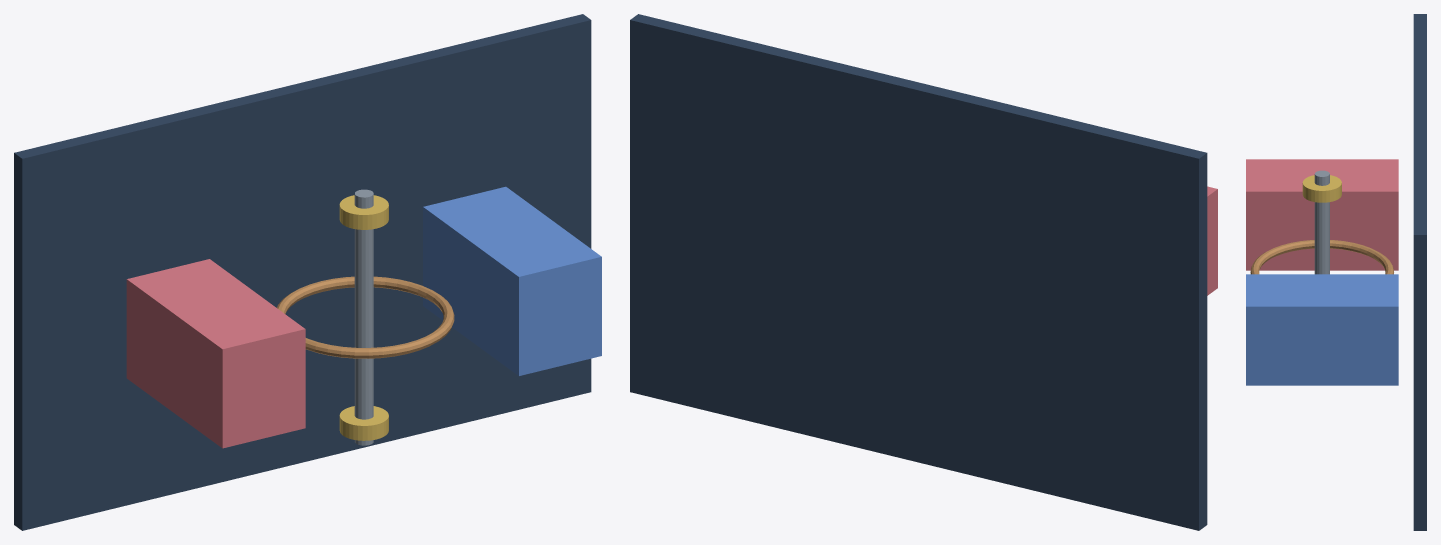
File: ac-generator.glb
The picture shows the model from 3 angles, left to right: view 1: azimuth 30°, elevation 25°; view 2: azimuth 150°, elevation 25°; view 3: azimuth 270°, elevation 25°; orthographic projection. The views are drawn at different scales.
Visible parts, largest first — view 1: bench, north_pole, south_pole, shaft, rotating_coil, slip_ring_left, slip_ring_right; view 2: bench, north_pole; view 3: south_pole, north_pole, bench, shaft, rotating_coil, slip_ring_right.
Part boxes in pixels (x1=…): bench: x1=14, y1=14, x2=591, y2=530; north_pole: x1=126, y1=259, x2=305, y2=448; south_pole: x1=423, y1=186, x2=601, y2=375; shaft: x1=354, y1=189, x2=373, y2=445; rotating_coil: x1=277, y1=276, x2=454, y2=358; slip_ring_left: x1=339, y1=406, x2=388, y2=440; slip_ring_right: x1=339, y1=195, x2=388, y2=229; bench: x1=630, y1=14, x2=1207, y2=530; north_pole: x1=1207, y1=186, x2=1217, y2=295; south_pole: x1=1246, y1=274, x2=1398, y2=385; north_pole: x1=1246, y1=159, x2=1398, y2=270; bench: x1=1413, y1=14, x2=1426, y2=530; shaft: x1=1314, y1=170, x2=1329, y2=274; rotating_coil: x1=1250, y1=240, x2=1393, y2=274; slip_ring_right: x1=1302, y1=175, x2=1341, y2=202.
Size of the model in its own units: 4.8 by 3 by 1.66.
